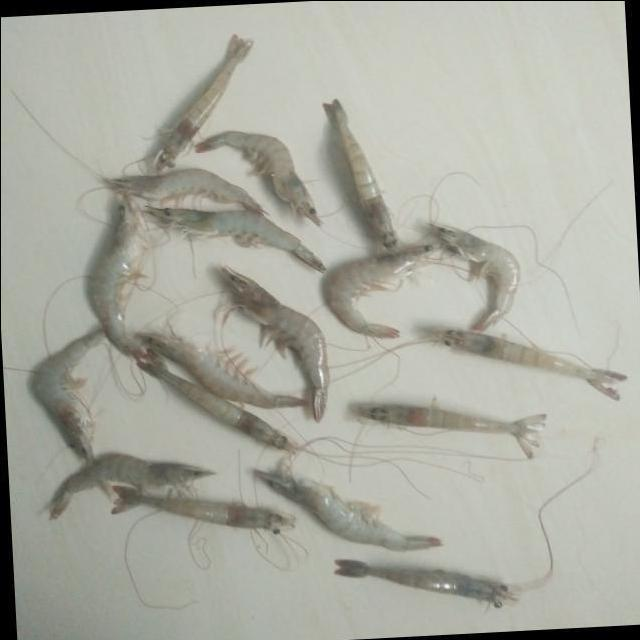shrimp: (220, 265, 329, 421), (135, 347, 296, 451), (253, 470, 441, 551), (151, 33, 252, 171), (432, 328, 627, 399), (134, 332, 306, 408), (194, 130, 320, 224), (144, 206, 324, 271), (323, 98, 398, 250), (47, 453, 213, 519), (354, 403, 546, 458), (322, 244, 432, 338), (29, 326, 103, 463), (429, 223, 520, 331), (88, 193, 145, 360), (333, 559, 516, 608), (110, 486, 294, 534), (103, 167, 265, 213)
